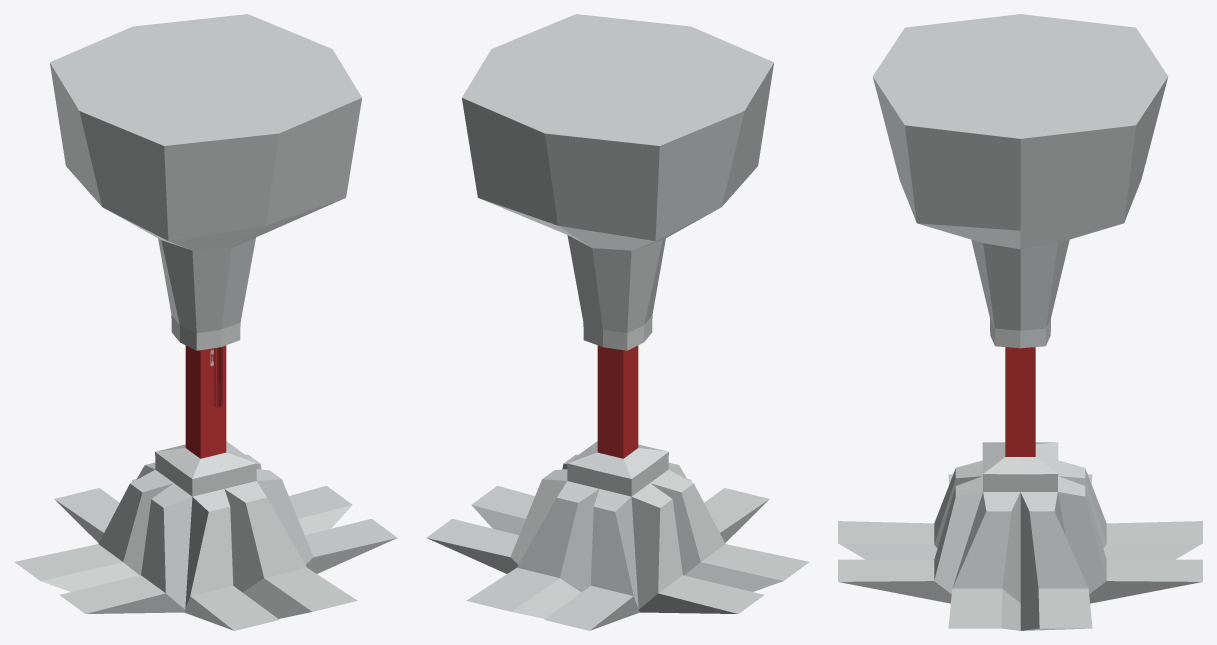
The model's file is Sprinkler.fbx.
3 renders of one model, left to right at view 1: azimuth 30°, elevation 25°; view 2: azimuth 150°, elevation 25°; view 3: azimuth 270°, elevation 25°, orthographic.
Parts seen in each view (by area): view 1: Sprinkler, Sprinkler Breakypart; view 2: Sprinkler, Sprinkler Breakypart; view 3: Sprinkler, Sprinkler Breakypart.
Boxes of the visible parts, x1=… form: Sprinkler: x1=14, y1=14, x2=397, y2=630; Sprinkler Breakypart: x1=185, y1=345, x2=226, y2=458; Sprinkler: x1=426, y1=14, x2=809, y2=630; Sprinkler Breakypart: x1=597, y1=345, x2=638, y2=458; Sprinkler: x1=838, y1=14, x2=1202, y2=630; Sprinkler Breakypart: x1=1005, y1=347, x2=1035, y2=456.
Bounding box in the file's own units: 0.1503 × 0.2289 × 0.1503.
Materials: 2 (1 with a texture image).
